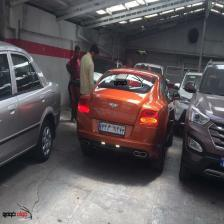plate: (97, 120, 127, 137)
